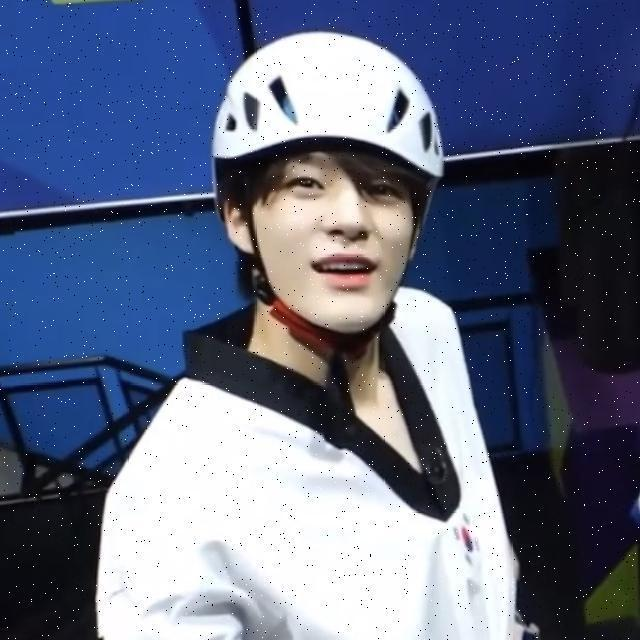helmet: (214, 30, 444, 358)
